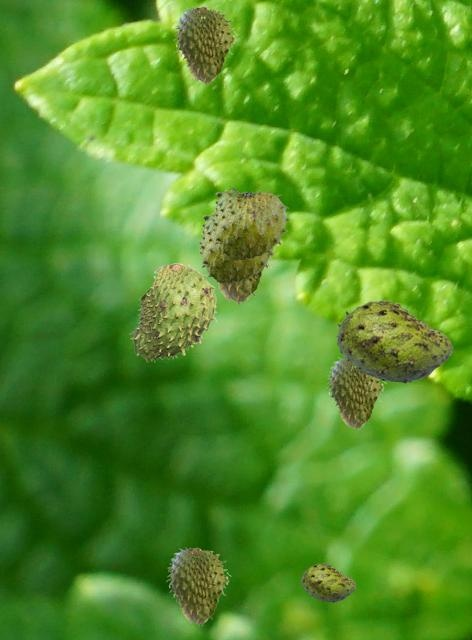guyabano: (336, 300, 452, 382), (129, 263, 216, 361), (199, 210, 275, 304), (211, 186, 289, 260), (198, 212, 275, 283), (173, 6, 237, 84), (166, 547, 230, 625), (326, 356, 385, 429), (301, 563, 355, 601)
